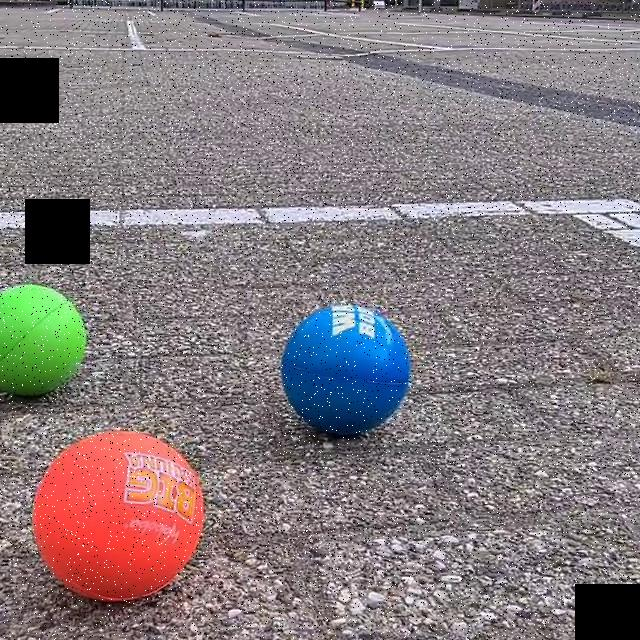ball: (282, 302, 414, 439), (0, 284, 87, 398)
